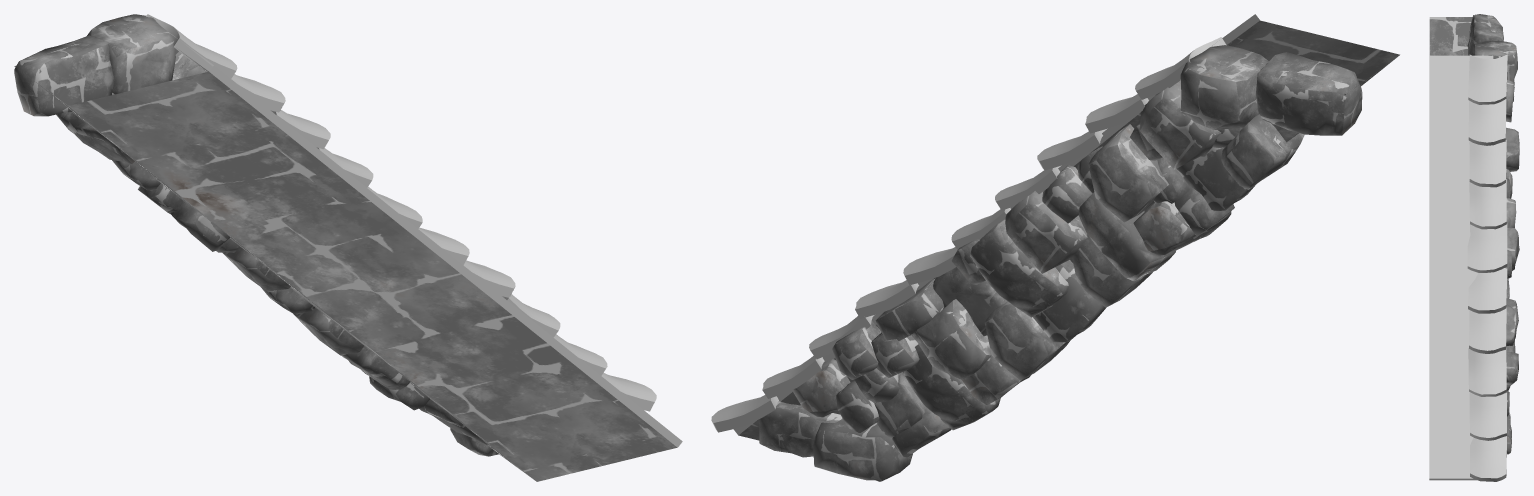
File: Roof_Mid_Right.fbx
3 views of the same model, side by side, from view 1: azimuth 30°, elevation 25°; view 2: azimuth 150°, elevation 25°; view 3: azimuth 270°, elevation 25° (orthographic). The views are drawn at different scales.
Parts seen in each view (by area): view 1: Wall.015, rock_1.007, Roof.001; view 2: rock_1.007, Roof.001, Wall.015; view 3: Roof.001, rock_1.007, Wall.015.
Part boxes in pixels (x1,y1,x2,y2): Wall.015: (14, 45, 676, 481); rock_1.007: (14, 14, 498, 456); Roof.001: (146, 14, 682, 447); rock_1.007: (759, 45, 1362, 481); Roof.001: (711, 14, 1259, 435); Wall.015: (738, 20, 1399, 440); Roof.001: (1429, 54, 1507, 481); rock_1.007: (1467, 14, 1519, 454); Wall.015: (1429, 17, 1472, 55).
Size of the model in its own units: 6.77 by 5.18 by 1.42.
